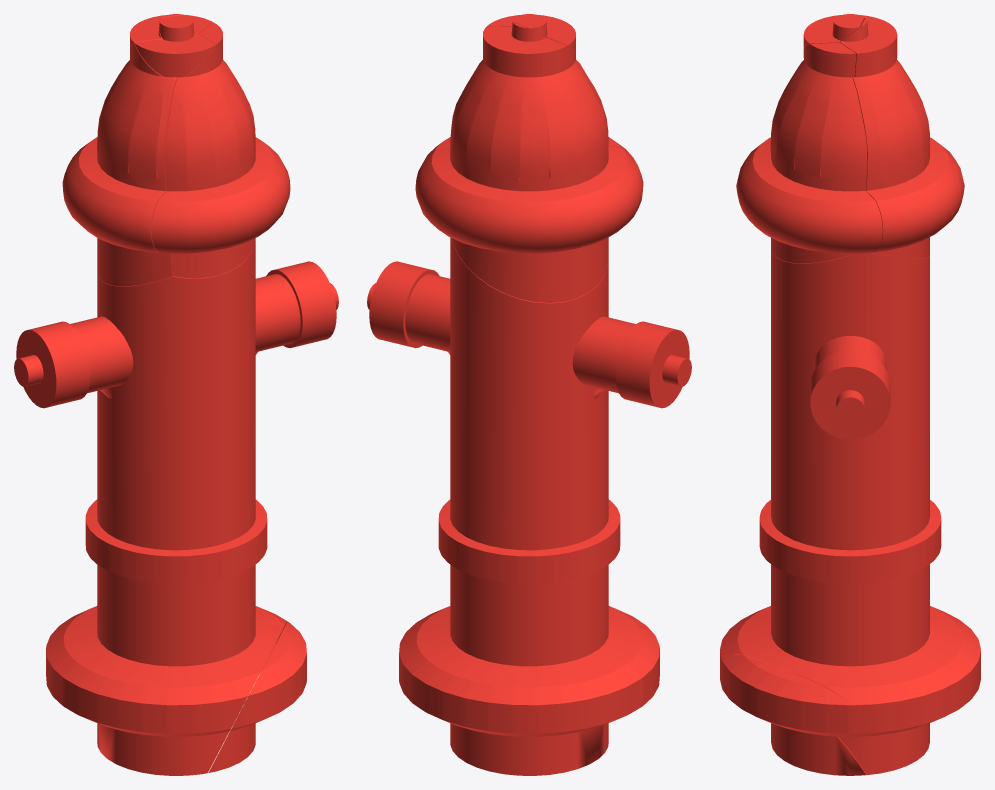
Rendered from FireHydrantScatter.fbx.
The picture shows the model from 3 angles, left to right: view 1: azimuth 30°, elevation 25°; view 2: azimuth 150°, elevation 25°; view 3: azimuth 270°, elevation 25°; orthographic projection.
Visible parts, largest first — view 1: FireHyrdrant_cell.003, FireHyrdrant_cell.002, FireHyrdrant_cell.004, FireHyrdrant_cell.007, FireHyrdrant_cell.001, FireHyrdrant_cell.006; view 2: FireHyrdrant_cell.003, FireHyrdrant_cell.004, FireHyrdrant_cell.007, FireHyrdrant_cell.006; view 3: FireHyrdrant_cell.003, FireHyrdrant_cell.002, FireHyrdrant_cell.004, FireHyrdrant_cell.001, FireHyrdrant_cell.007, FireHyrdrant_cell.006.
Boxes of the visible parts, <box> form: FireHyrdrant_cell.003: <box>46,239,289,775</box>; FireHyrdrant_cell.002: <box>151,22,290,278</box>; FireHyrdrant_cell.004: <box>62,14,212,286</box>; FireHyrdrant_cell.007: <box>14,261,338,408</box>; FireHyrdrant_cell.001: <box>208,622,306,772</box>; FireHyrdrant_cell.006: <box>134,14,215,77</box>; FireHyrdrant_cell.003: <box>399,237,659,775</box>; FireHyrdrant_cell.004: <box>415,22,643,302</box>; FireHyrdrant_cell.007: <box>367,261,691,408</box>; FireHyrdrant_cell.006: <box>512,14,575,52</box>; FireHyrdrant_cell.003: <box>720,247,980,774</box>; FireHyrdrant_cell.002: <box>736,42,882,263</box>; FireHyrdrant_cell.004: <box>839,15,964,258</box>; FireHyrdrant_cell.001: <box>720,653,873,775</box>; FireHyrdrant_cell.007: <box>810,336,890,439</box>; FireHyrdrant_cell.006: <box>803,14,864,47</box>.
Size of the model in its own units: 142 by 316 by 104.
